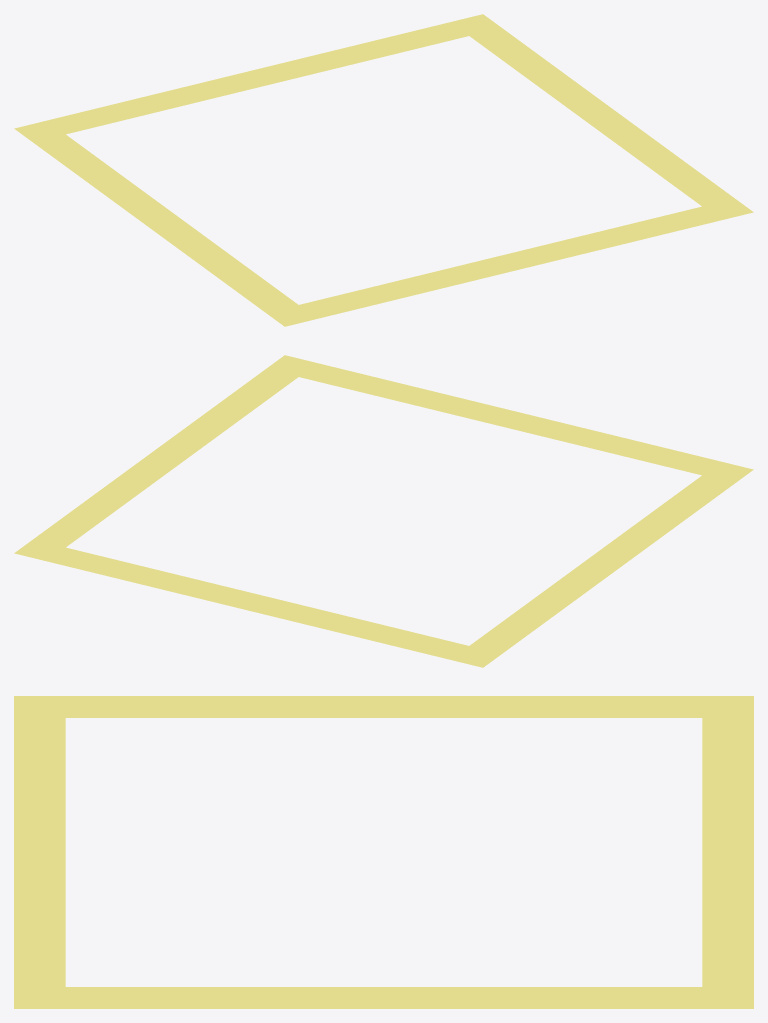
File: Selected.fbx
3 views of the same model, one above another, from view 1: azimuth 30°, elevation 25°; view 2: azimuth 150°, elevation 25°; view 3: azimuth 270°, elevation 25° (orthographic). The views are drawn at different scales.
Parts seen in each view (by area): view 1: Selected; view 2: Selected; view 3: Selected.
Boxes of the visible parts, x1=… form: Selected: x1=14, y1=14, x2=753, y2=326; Selected: x1=14, y1=355, x2=753, y2=667; Selected: x1=14, y1=696, x2=753, y2=1008.
Bounding box in the file's own units: 100 × 0 × 100.
